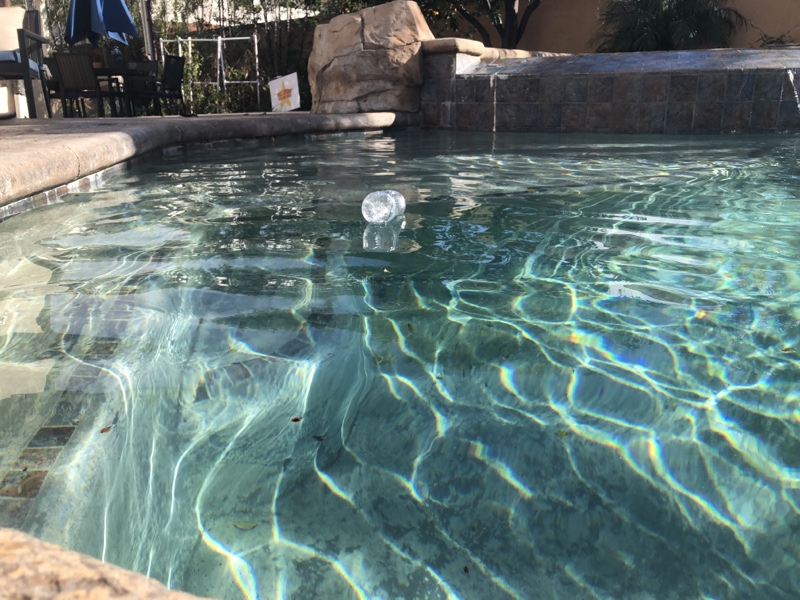Plastic Bottle: (357, 185, 408, 227)
